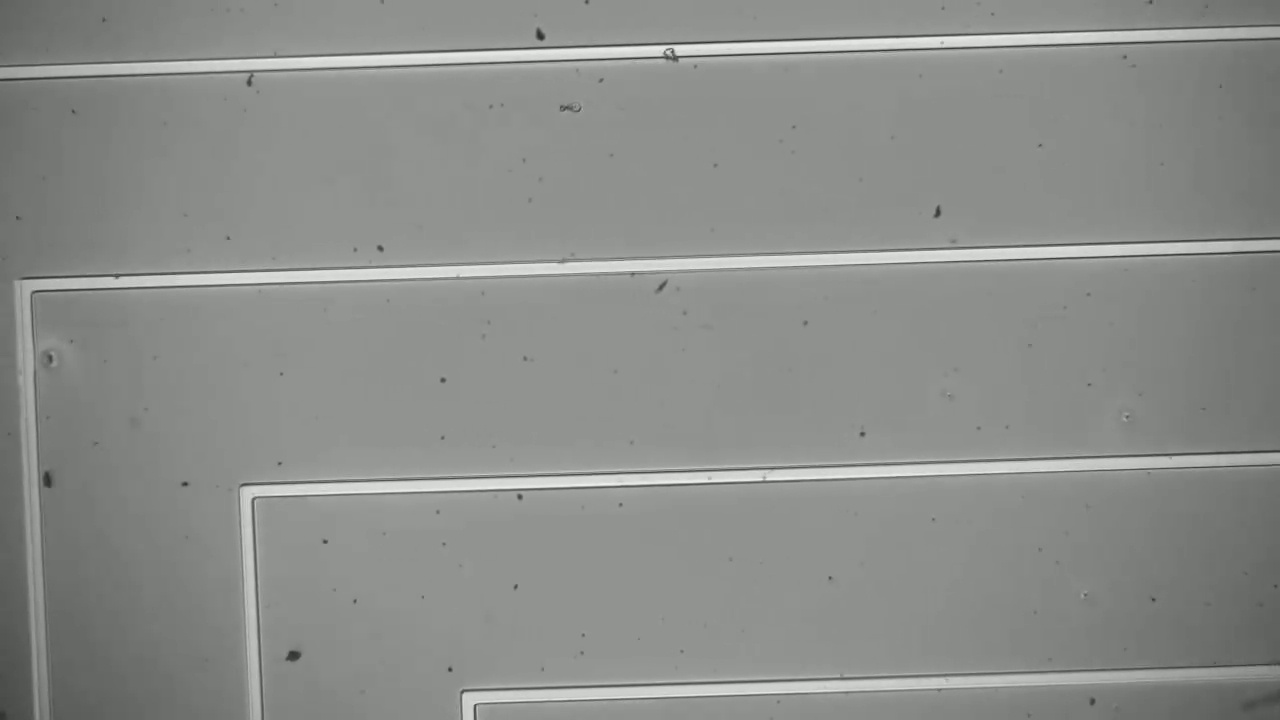stains_enbedded: (655, 38, 684, 71)
